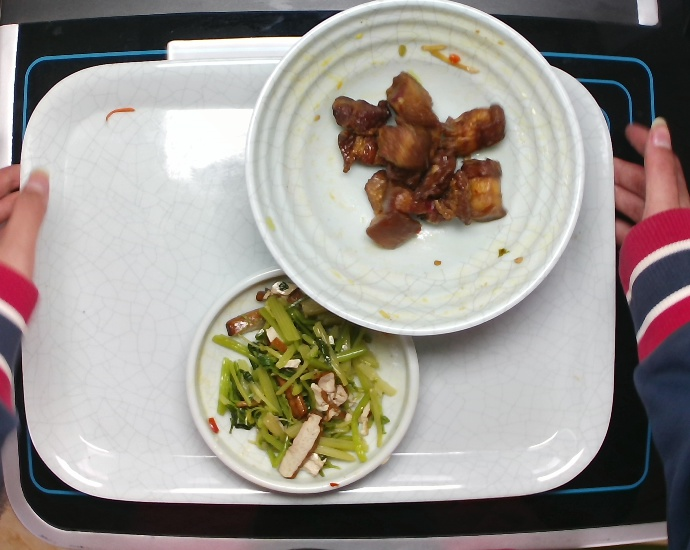JYsf-Da_Tang_Wan: (236, 1, 586, 335)
JYsf-Xiao_Yuan_Pan: (186, 269, 421, 499)
